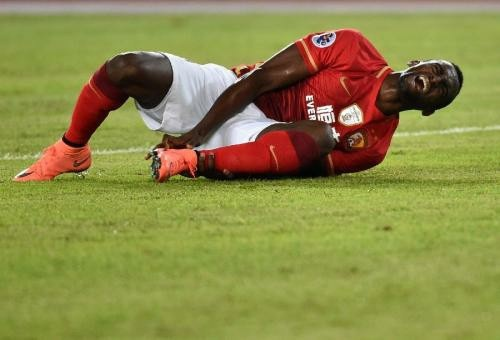falling: (17, 14, 442, 185)
